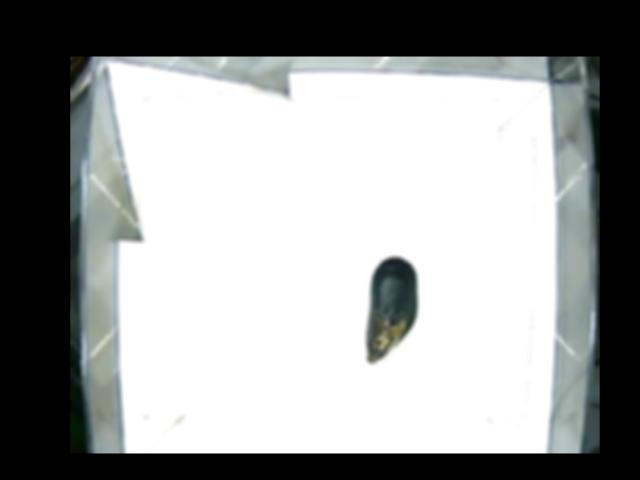Shell: (360, 256, 418, 363)
